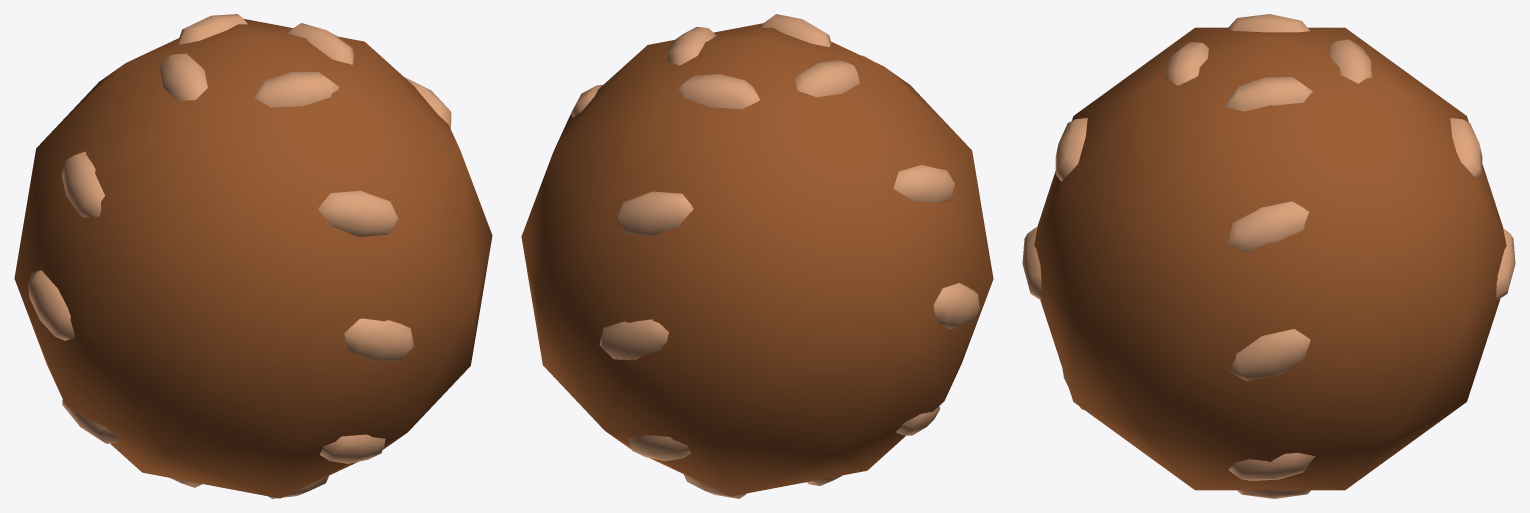
The model's file is OldBall.fbx.
3 renders of one model, left to right at view 1: azimuth 30°, elevation 25°; view 2: azimuth 150°, elevation 25°; view 3: azimuth 270°, elevation 25°, orthographic.
Visible parts, largest first — view 1: Icosphere, Cube.016, Cube.015, Cube.017, Cube.006, Cube.005, Cube.007, Cube.018, Cube.002, Cube.012, Cube.008, Cube.001; view 2: Icosphere, Cube.011, Cube.010, Cube.012, Cube.006, Cube.007, Cube.005, Cube.013, Cube.017, Cube.002, Cube.008; view 3: Icosphere, Cube, Cube.001, Cube.002, Cube.003, Cube.016, Cube.017, Cube.012, Cube.011, Cube.007, Cube.015, Cube.010.
Part boxes in pixels (box(x1,y1,x2,y2)): Icosphere: box(14, 18, 492, 498); Cube.016: box(318, 190, 398, 236); Cube.015: box(344, 318, 414, 361); Cube.017: box(254, 72, 339, 107); Cube.006: box(61, 151, 104, 217); Cube.005: box(28, 270, 74, 340); Cube.007: box(160, 53, 207, 100); Cube.018: box(320, 434, 385, 463); Cube.002: box(288, 23, 353, 64); Cube.012: box(178, 14, 247, 44); Cube.008: box(62, 399, 120, 443); Cube.001: box(404, 77, 451, 128); Icosphere: box(521, 23, 993, 496); Cube.011: box(616, 191, 693, 235); Cube.010: box(599, 319, 668, 359); Cube.012: box(677, 74, 759, 109); Cube.006: box(893, 165, 954, 203); Cube.007: box(794, 60, 859, 97); Cube.005: box(933, 283, 979, 328); Cube.013: box(628, 435, 690, 461); Cube.017: box(762, 14, 831, 46); Cube.002: box(667, 27, 716, 65); Cube.008: box(896, 406, 939, 435); Icosphere: box(1034, 27, 1506, 490); Cube: box(1229, 329, 1310, 380); Cube.001: box(1226, 201, 1308, 251); Cube.002: box(1225, 77, 1312, 111); Cube.003: box(1229, 453, 1315, 480); Cube.016: box(1055, 118, 1087, 181); Cube.017: box(1165, 41, 1208, 85); Cube.012: box(1328, 39, 1371, 83); Cube.011: box(1450, 118, 1482, 179); Cube.007: box(1227, 14, 1309, 32); Cube.015: box(1022, 227, 1041, 299); Cube.010: box(1496, 228, 1515, 299).
Size of the model in its own units: 31.74 by 31.6 by 32.03.
